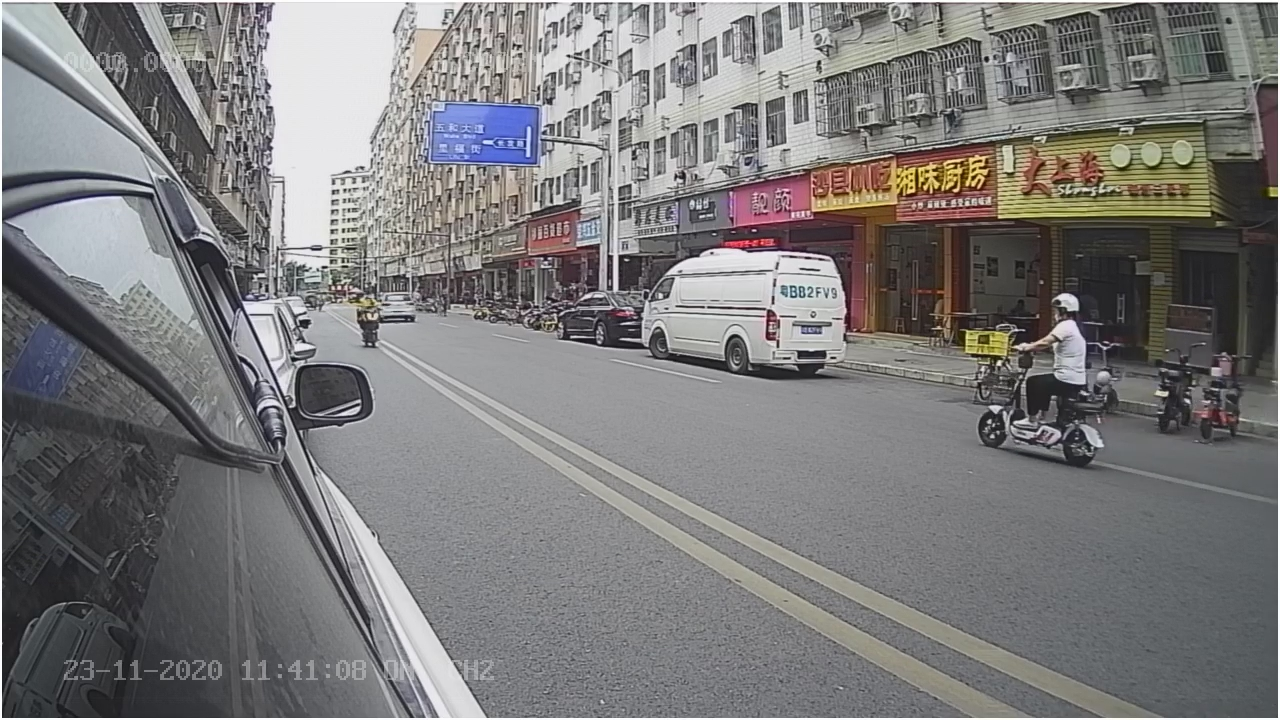person: (1041, 292, 1091, 392)
